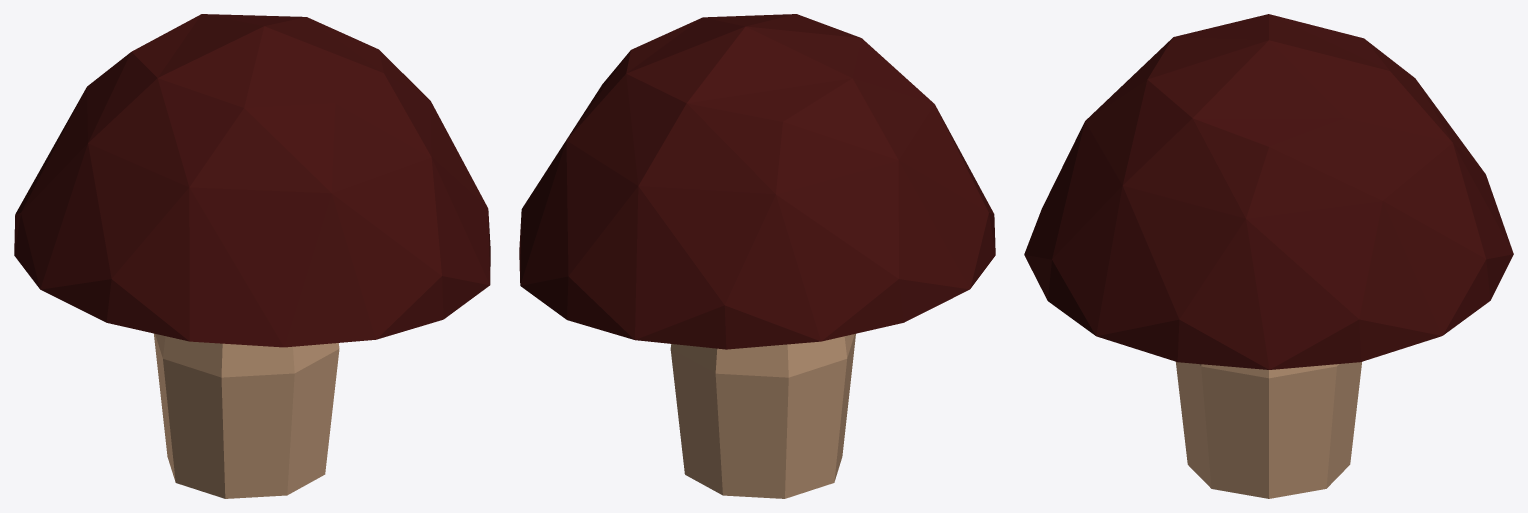
Rendered from mushroom5.obj.
The picture shows the model from 3 angles, left to right: view 1: azimuth 30°, elevation 25°; view 2: azimuth 150°, elevation 25°; view 3: azimuth 270°, elevation 25°; orthographic projection.
Parts seen in each view (by area): view 1: Mushroom2_1.001_Cylinder.050; view 2: Mushroom2_1.001_Cylinder.050; view 3: Mushroom2_1.001_Cylinder.050.
Boxes of the visible parts, x1,y1,x2,y2 form: Mushroom2_1.001_Cylinder.050: (14,14,490,498); Mushroom2_1.001_Cylinder.050: (519,14,995,498); Mushroom2_1.001_Cylinder.050: (1024,14,1513,498).
Bounding box in the file's own units: 0.696 × 0.6802 × 0.697.
